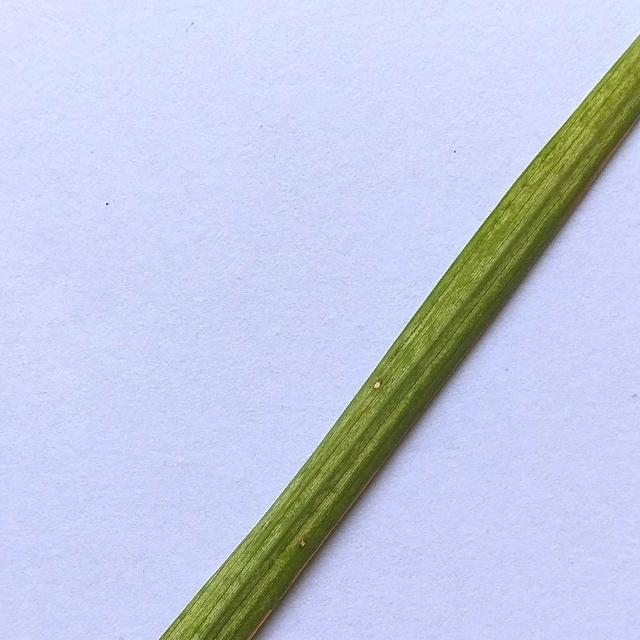Blast: (370, 378, 386, 394), (296, 542, 314, 550)
